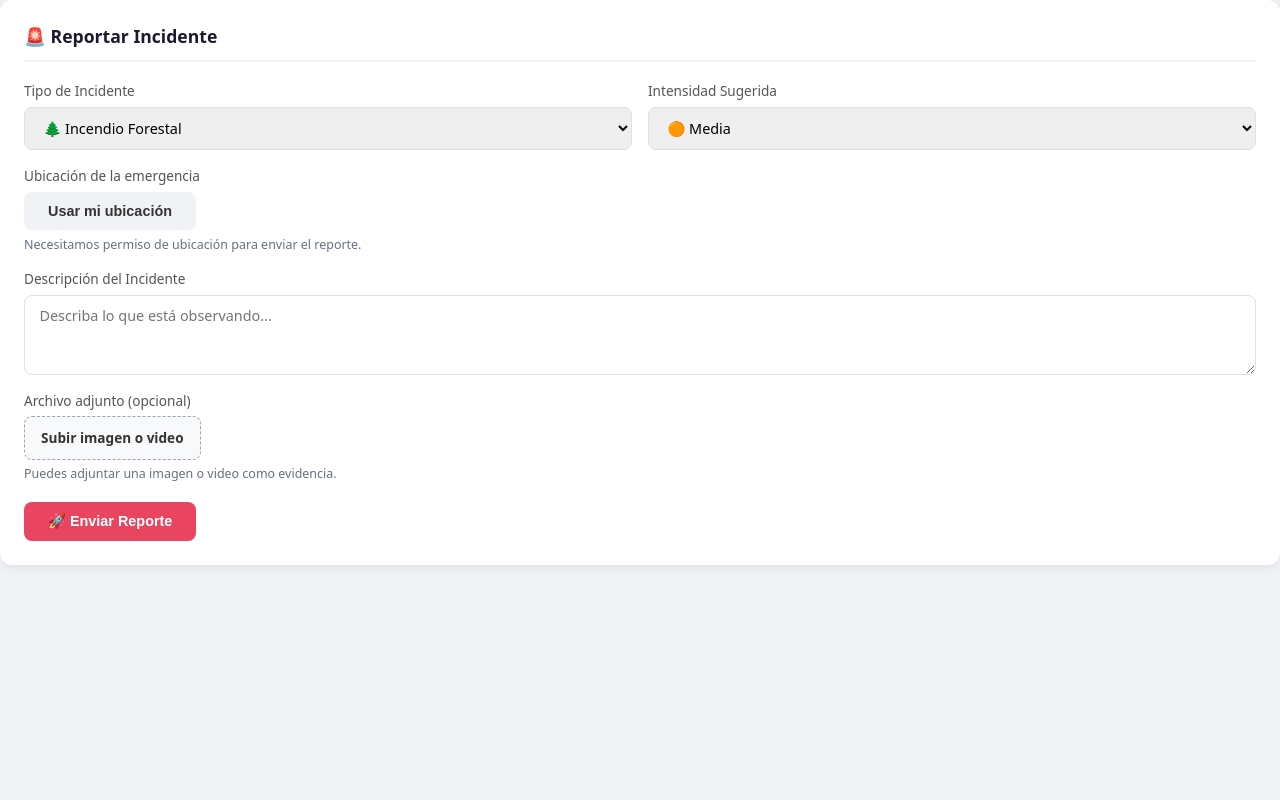
Scenario: ReporteForm › valida descripcion y ubicacion antes de enviar
Step 1. Click the button "🚀 Enviar Reporte" → point(110, 522), box [24,502,196,541]
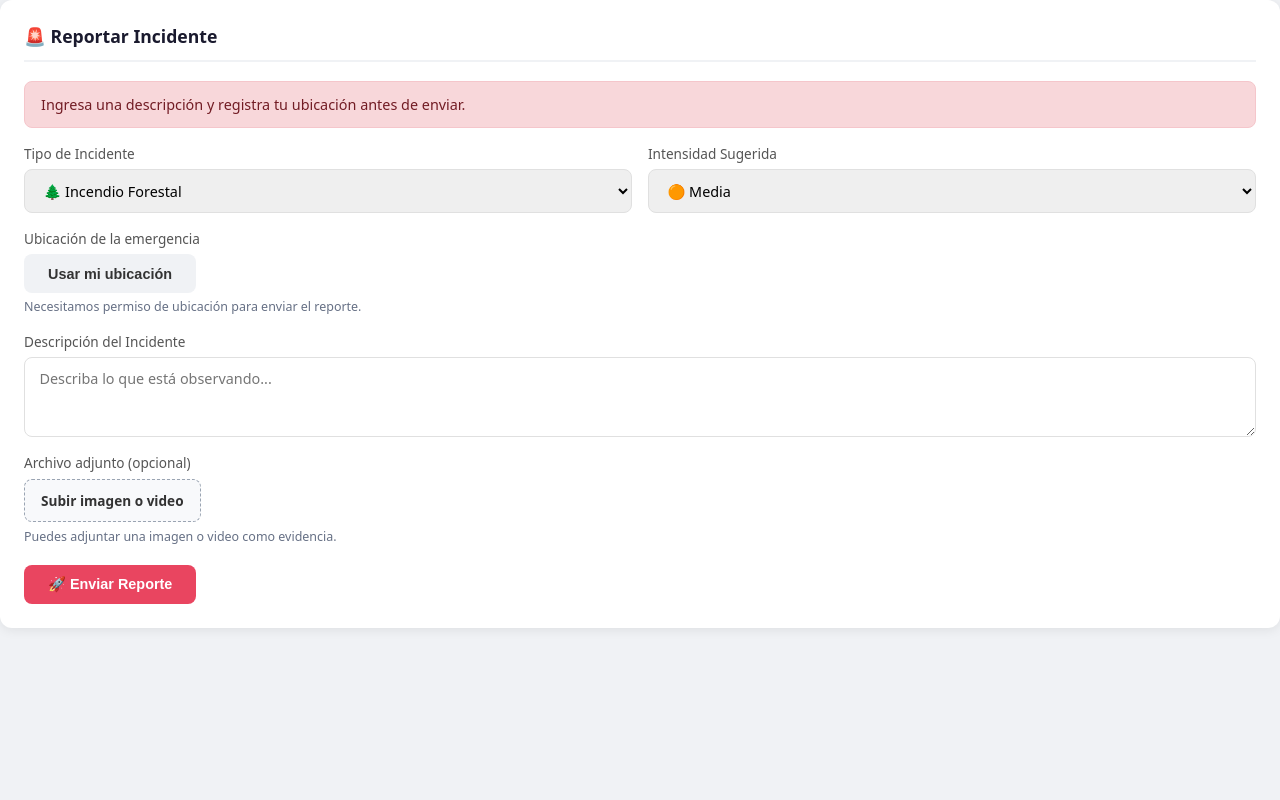
Now the text "Ingresa una descripción" is shown, box [41,95,465,114]
